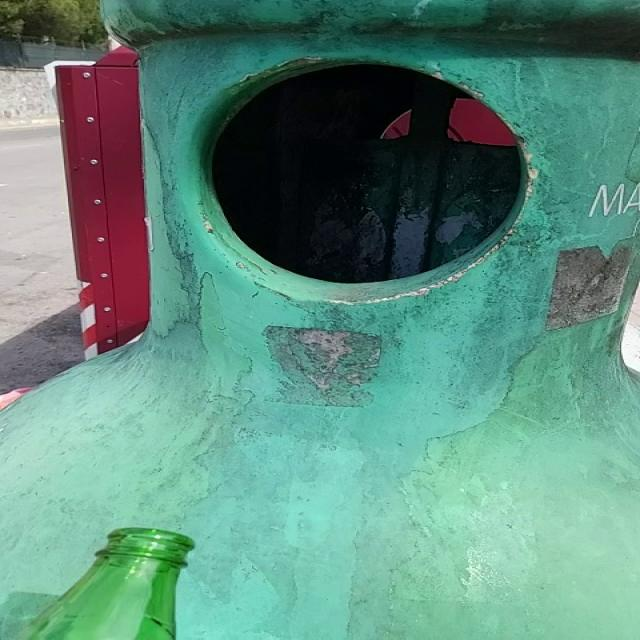glass: (25, 530, 193, 640)
